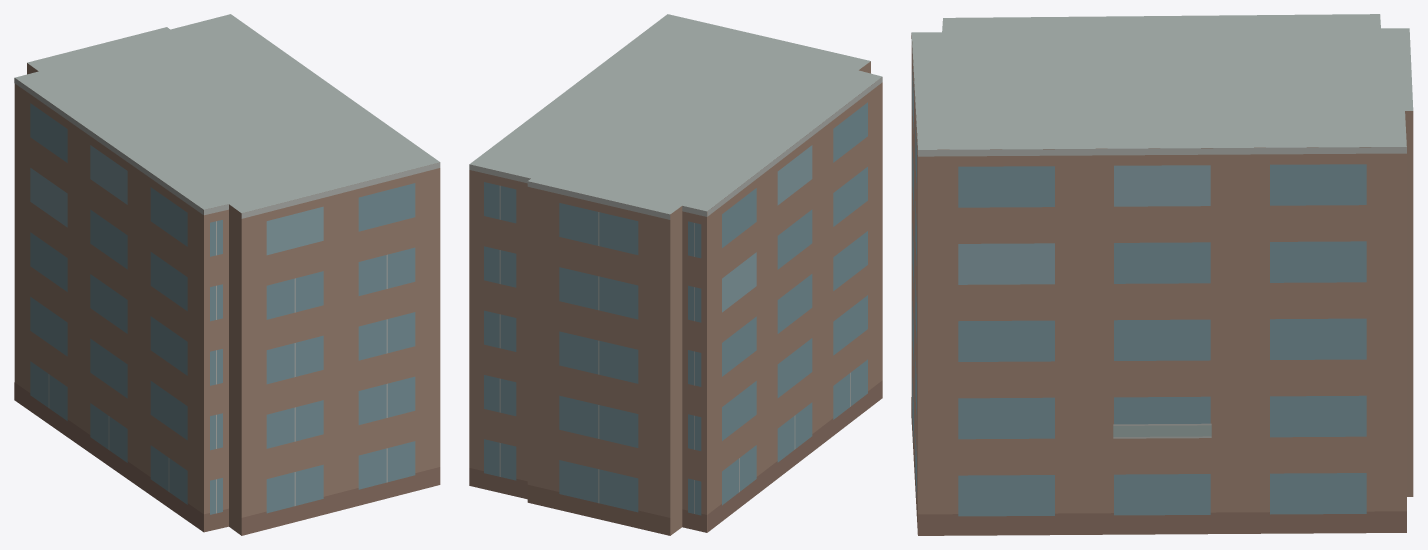
Rendered from survey-upis-32610845.glb.
3 views of the same model, side by side, from view 1: azimuth 30°, elevation 25°; view 2: azimuth 150°, elevation 25°; view 3: azimuth 270°, elevation 25° (orthographic). The views are drawn at different scales.
Visible parts, largest first — view 1: survey-upis-32610845.tmp; view 2: survey-upis-32610845.tmp; view 3: survey-upis-32610845.tmp.
Part boxes in pixels (<box>): survey-upis-32610845.tmp: <box>14,14,440,535</box>; survey-upis-32610845.tmp: <box>469,14,882,535</box>; survey-upis-32610845.tmp: <box>911,14,1413,535</box>.
Size of the model in its own units: 10.66 by 14.1 by 16.62.
